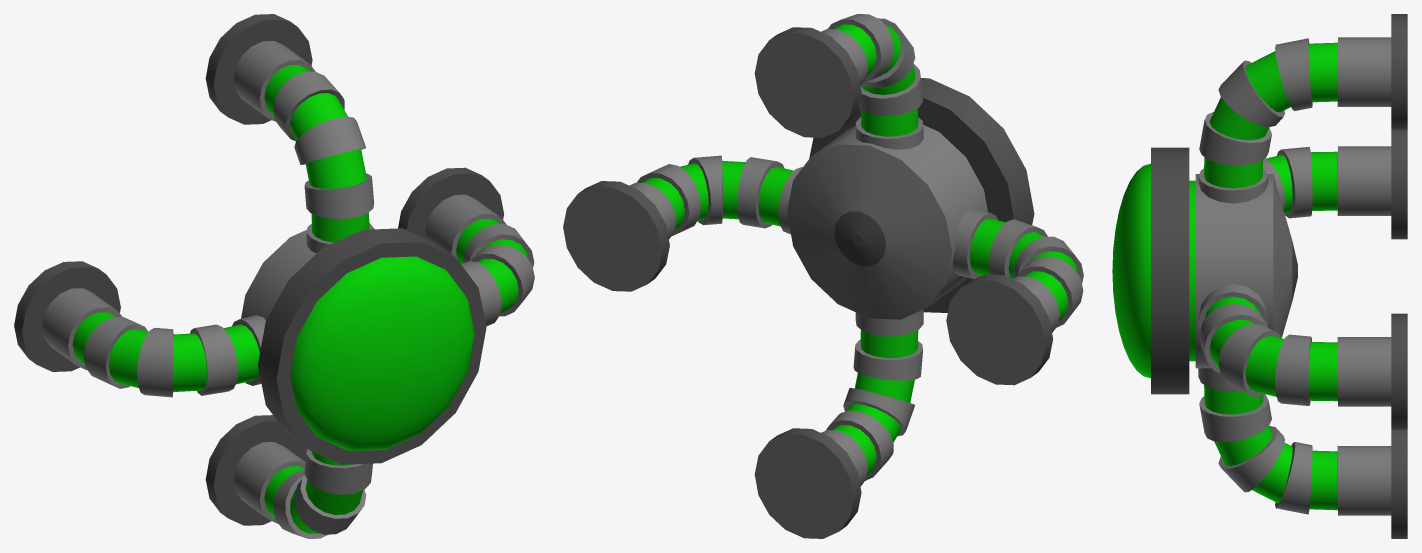
File: Robot_Light_A.fbx
3 views of the same model, side by side, from view 1: azimuth 30°, elevation 25°; view 2: azimuth 150°, elevation 25°; view 3: azimuth 270°, elevation 25° (orthographic).
Visible parts, largest first — view 1: pSphere27, pCylinder51, pCylinder50, pCylinder52, pCylinder49; view 2: pSphere27, pCylinder52, pCylinder49, pCylinder51, pCylinder50; view 3: pSphere27, pCylinder50, pCylinder49, pCylinder52, pCylinder51.
Part boxes in pixels (x1=…): pSphere27: x1=241, y1=228, x2=486, y2=464; pCylinder51: x1=14, y1=261, x2=265, y2=397; pCylinder50: x1=205, y1=14, x2=374, y2=253; pCylinder52: x1=205, y1=415, x2=372, y2=538; pCylinder49: x1=398, y1=167, x2=534, y2=326; pSphere27: x1=787, y1=78, x2=1034, y2=319; pCylinder52: x1=754, y1=309, x2=923, y2=538; pCylinder49: x1=563, y1=155, x2=802, y2=291; pCylinder51: x1=946, y1=209, x2=1083, y2=385; pCylinder50: x1=754, y1=14, x2=923, y2=149; pSphere27: x1=1112, y1=147, x2=1297, y2=394; pCylinder50: x1=1198, y1=14, x2=1407, y2=203; pCylinder49: x1=1198, y1=284, x2=1407, y2=429; pCylinder52: x1=1198, y1=368, x2=1407, y2=538; pCylinder51: x1=1263, y1=130, x2=1407, y2=239.
Size of the model in its own units: 1.42 by 0.7411 by 1.42.
